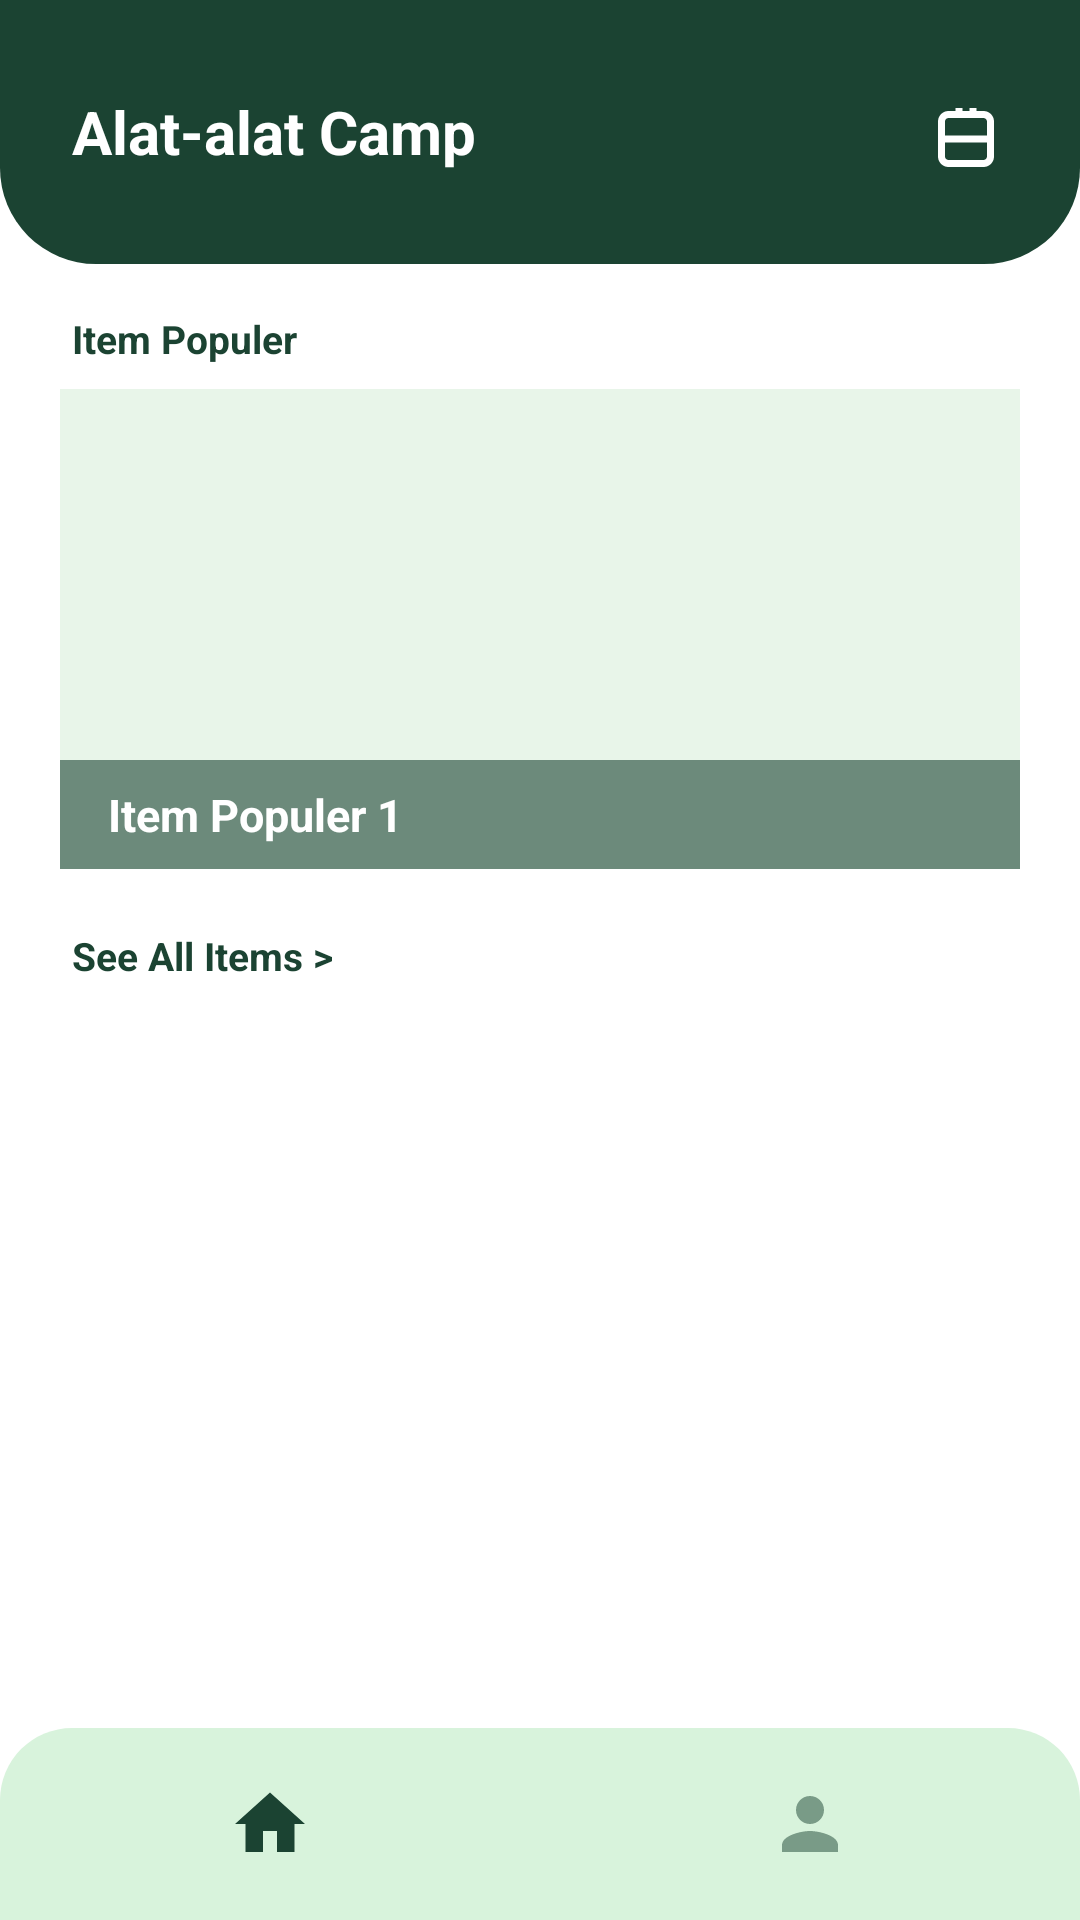

Locate icon controls on the screen. Image size 1080w x 1920h, boxes as (x1, y1, x2, y2).
Home Nav: (235, 1792, 305, 1852)
Profile Nav: (782, 1796, 838, 1852)
